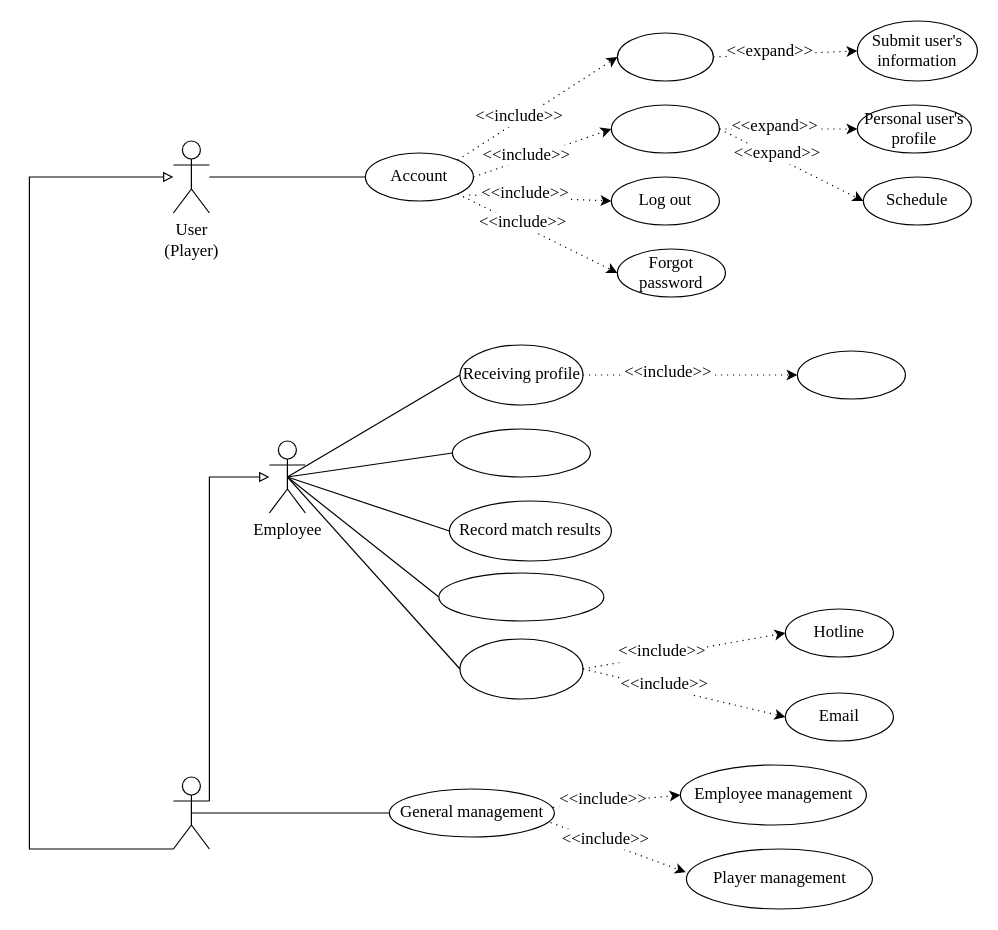
Image size: 998x930. Some labels were removed from this diagram. Each missing label, with the centre of its shape:
"Consultant staff" belongs at (x=521, y=668).
"Log in" belongs at (x=664, y=128).
"Make league report" belongs at (x=521, y=596).
"Making schedule" belongs at (x=520, y=452).
"Manager" belongs at (x=190, y=812).
"Online" belongs at (x=850, y=374).
"Register" belongs at (x=664, y=56).
